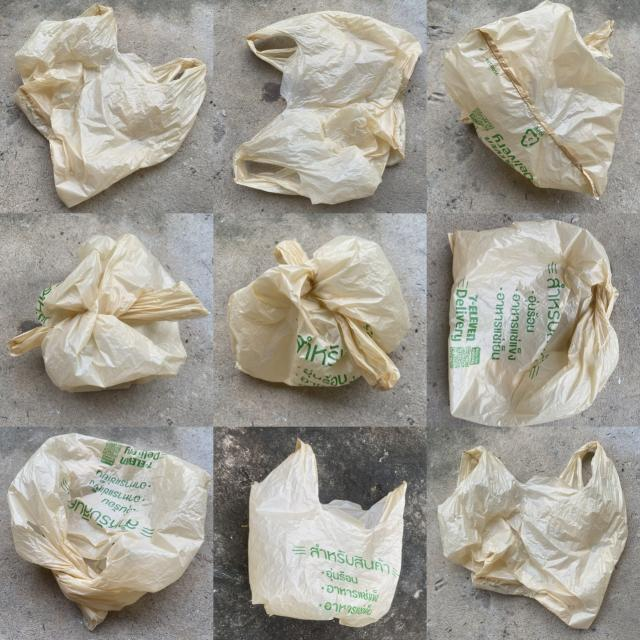Single-layer Plastic: (8, 434, 212, 630), (14, 4, 206, 208), (441, 220, 619, 426), (234, 11, 421, 204), (438, 441, 628, 628), (444, 1, 624, 198), (9, 234, 207, 392), (249, 440, 406, 627), (228, 235, 410, 390)
